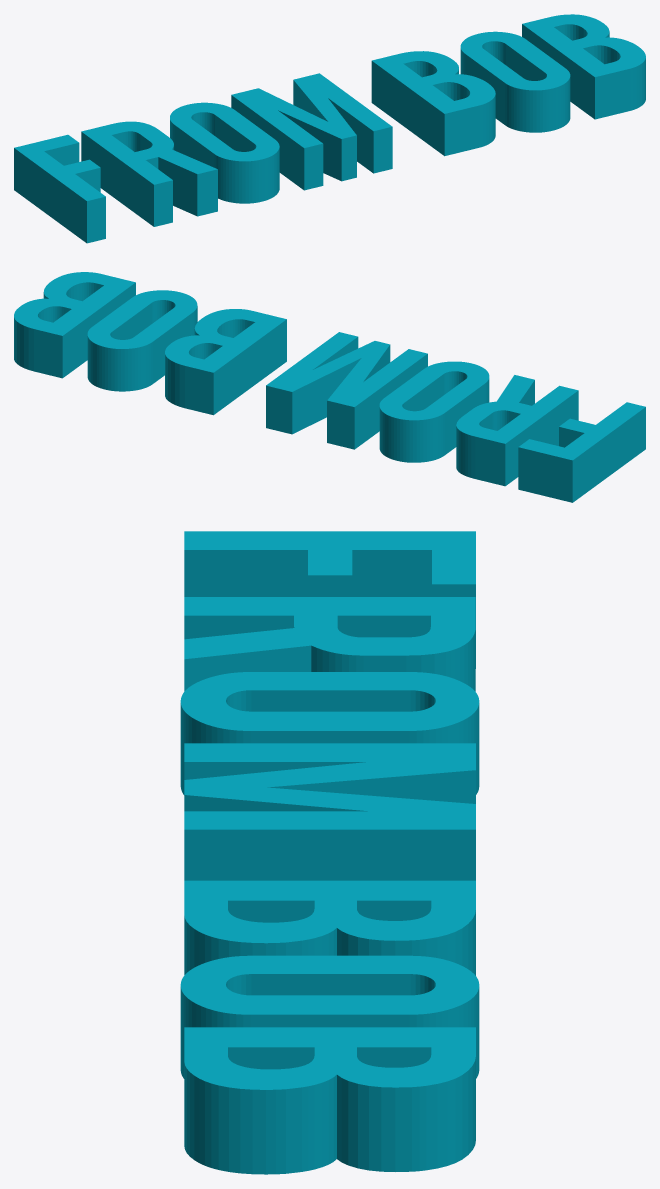
File: FromBob.glb
3 views of the same model, one above another, from view 1: azimuth 30°, elevation 25°; view 2: azimuth 150°, elevation 25°; view 3: azimuth 270°, elevation 25° (orthographic). The views are drawn at different scales.
Visible parts, largest first — view 1: Mesh_Mesh_head_geo.001_lambert2SG.001; view 2: Mesh_Mesh_head_geo.001_lambert2SG.001; view 3: Mesh_Mesh_head_geo.001_lambert2SG.001.
Boxes of the visible parts, box(x1,y1,x2,y2) form: Mesh_Mesh_head_geo.001_lambert2SG.001: box(14, 14, 645, 243); Mesh_Mesh_head_geo.001_lambert2SG.001: box(14, 272, 645, 502); Mesh_Mesh_head_geo.001_lambert2SG.001: box(180, 531, 479, 1174).
Bounding box in the file's own units: 212 × 15 × 48.
